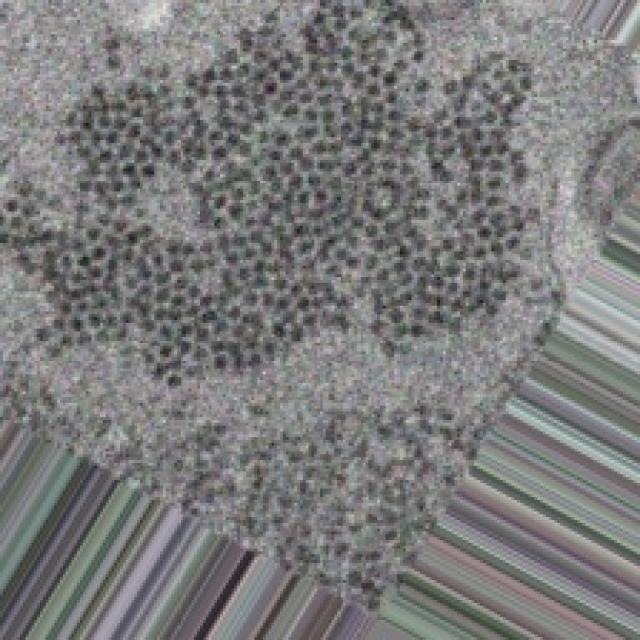Spherical_bacteria: (0, 0, 637, 614)
